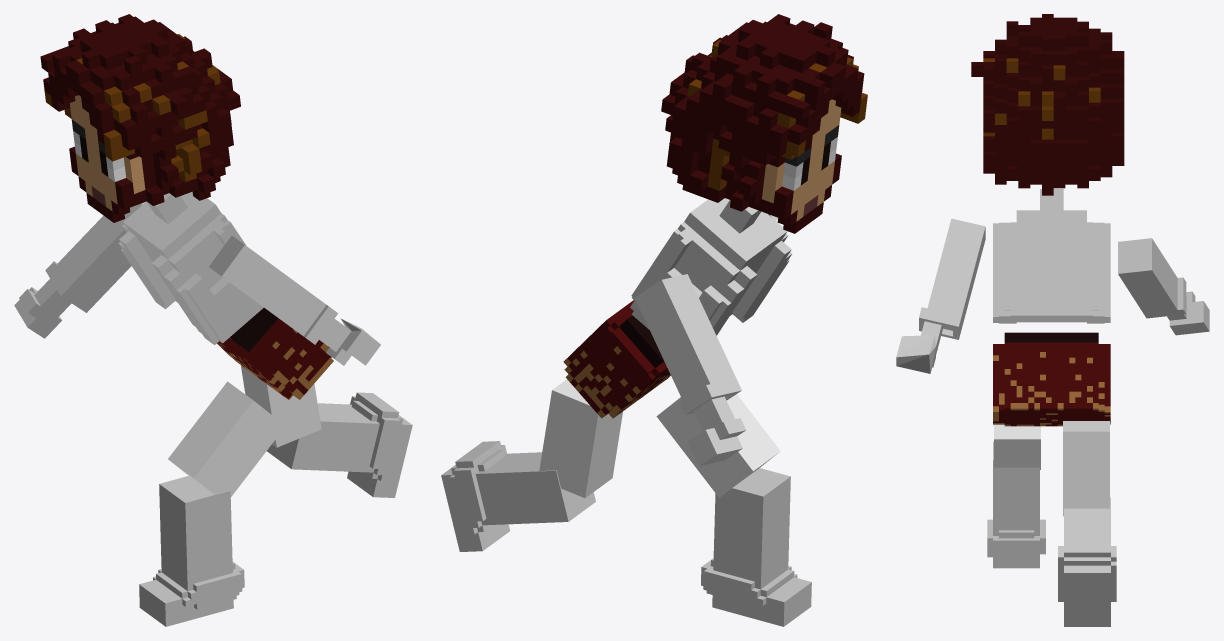
The model's file is POS4.fbx.
3 views of the same model, side by side, from view 1: azimuth 30°, elevation 25°; view 2: azimuth 150°, elevation 25°; view 3: azimuth 270°, elevation 25° (orthographic). The views are drawn at different scales.
Parts seen in each view (by area): view 1: POS4; view 2: POS4; view 3: POS4.
Boxes of the visible parts, box(x1,y1,x2,y2) form: POS4: box(14, 14, 412, 626); POS4: box(441, 14, 867, 626); POS4: box(896, 14, 1209, 626).
Bounding box in the file's own units: 129 × 204 × 113.
